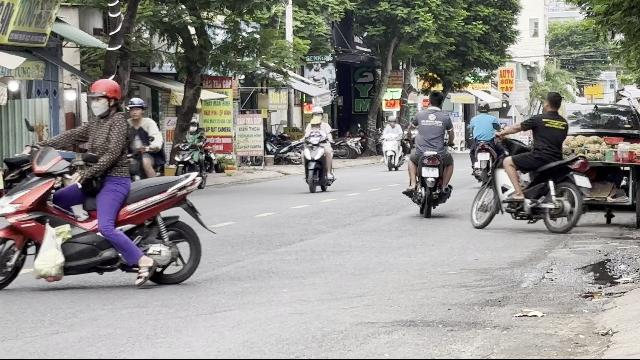helmet: (86, 78, 122, 117), (310, 106, 324, 121)
licenseplate: (574, 174, 592, 190), (422, 166, 438, 178)
motorcyclist: (0, 73, 214, 289), (469, 90, 597, 234), (402, 87, 456, 215), (297, 106, 337, 194)
nohelmet: (543, 90, 563, 112), (426, 88, 444, 108)
